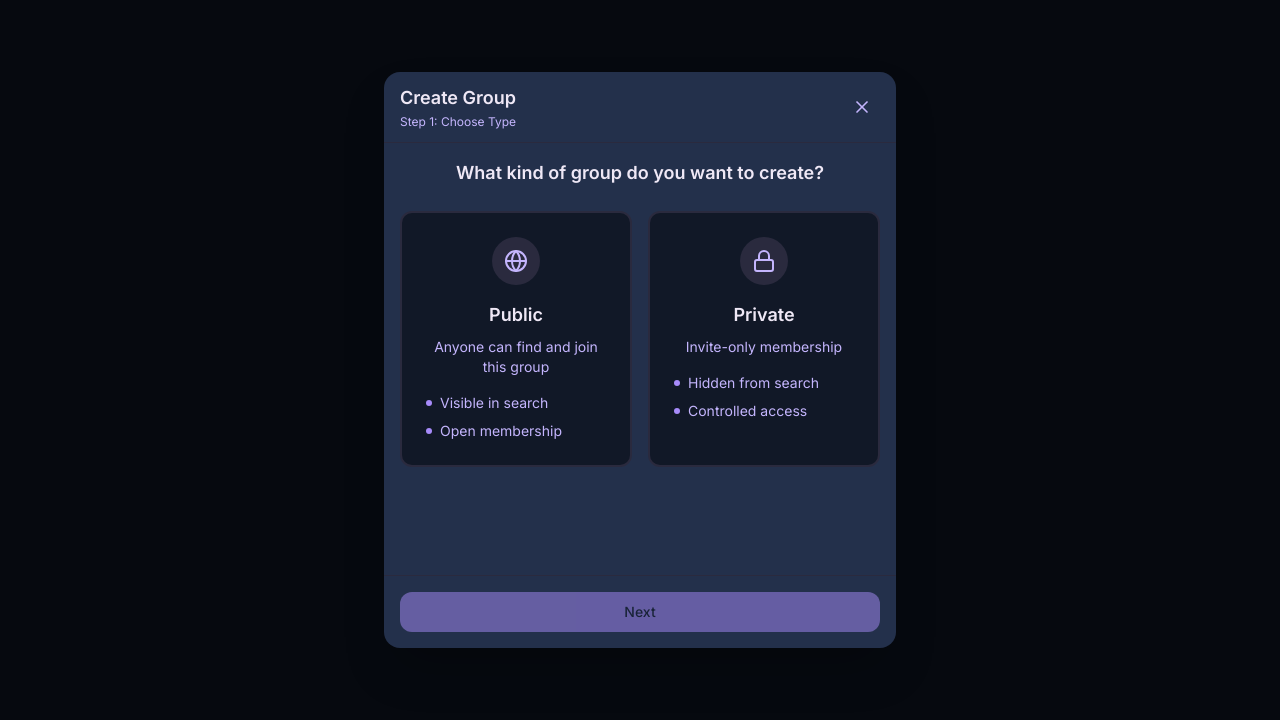
GroupCreationWizard › Flow navigation › navigates to members after type selection for private group
Note: Select Private type
Click the option "Private" at (764, 339), box [648,211,880,467]
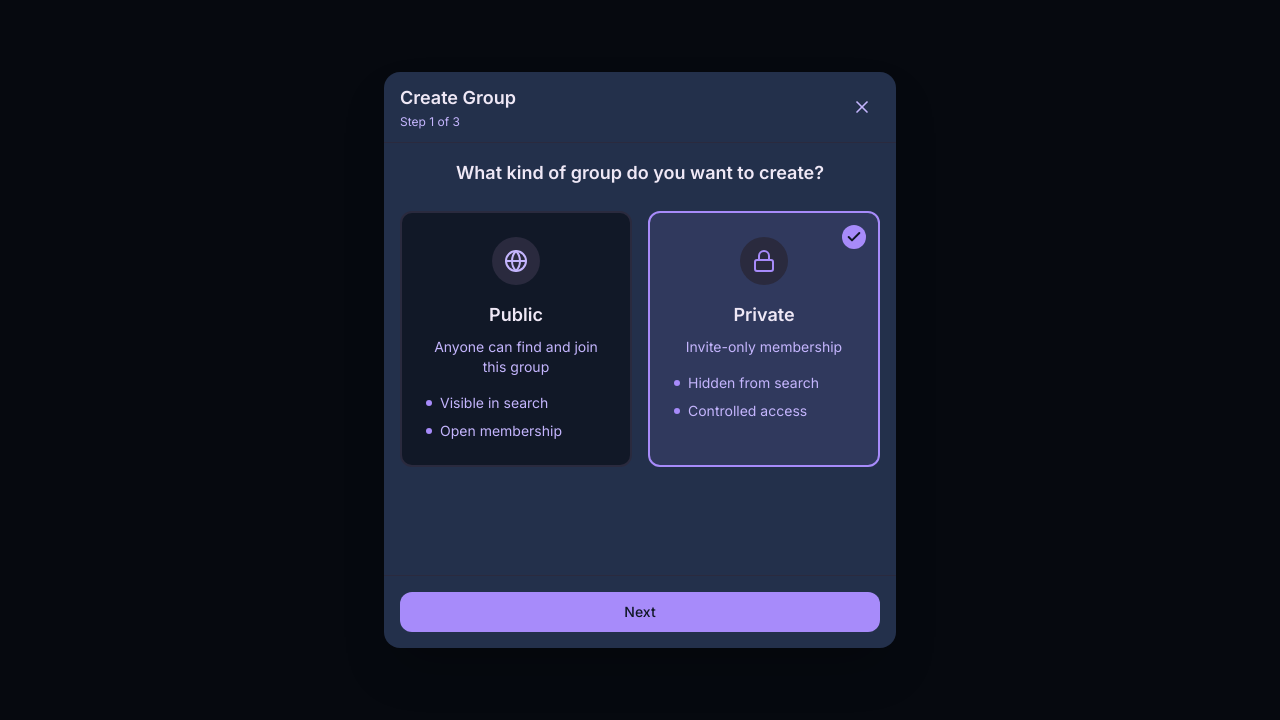
Note: Click Next button
Click the button with aria-label "proceed to next step" at (640, 612), box [400,592,880,632]
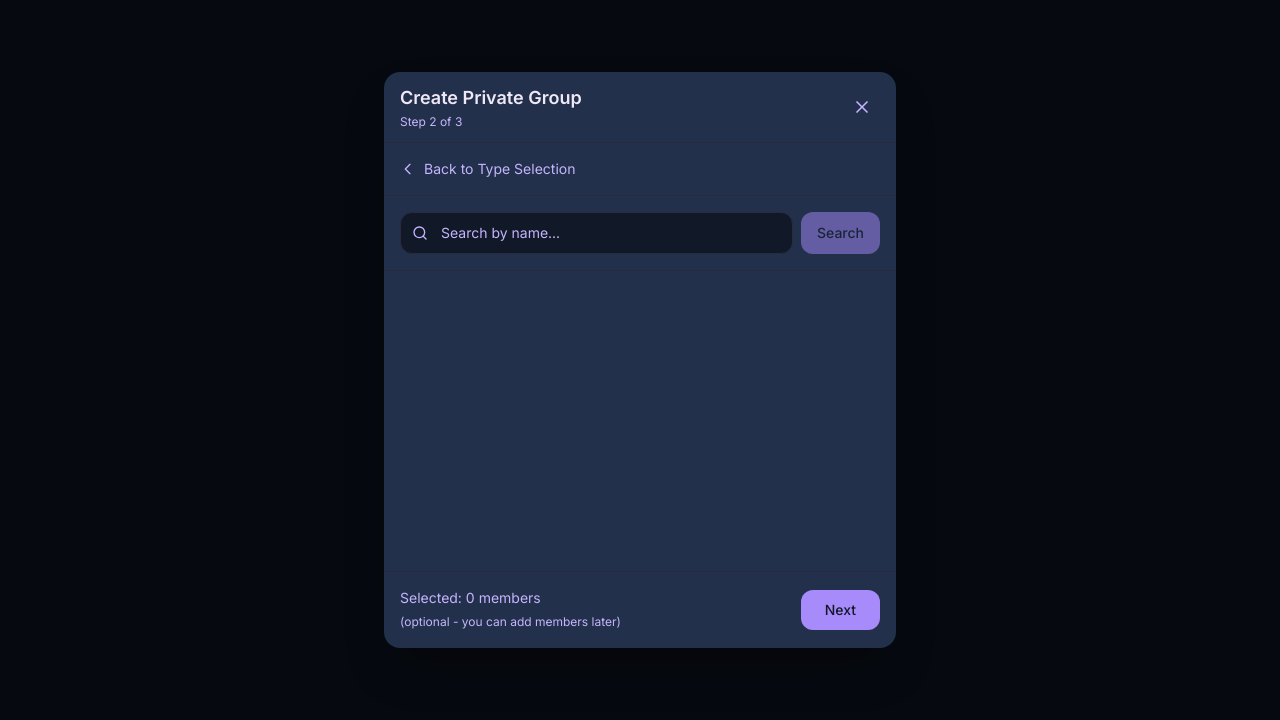
Expected: the heading "Create Private Group" is shown, [400,84,582,112]
Expected: the field with placeholder "Search by name..." is shown, [400,212,793,254]
